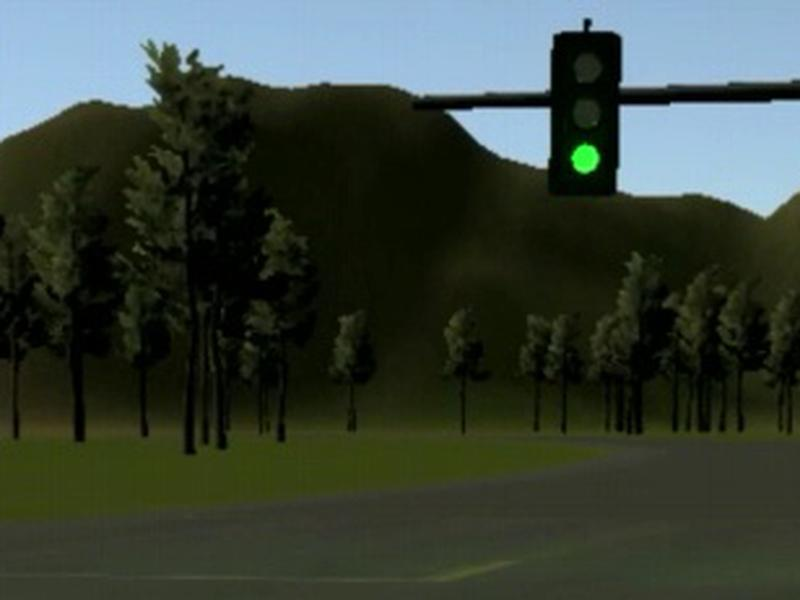Green: (548, 31, 622, 197)
